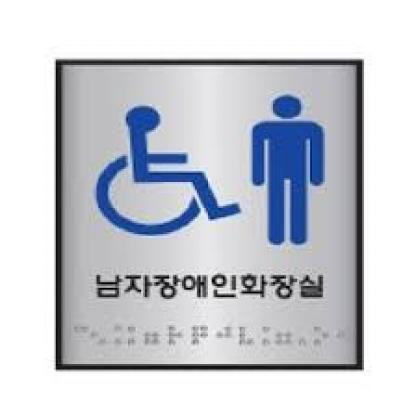toilet: (86, 95, 328, 247)
